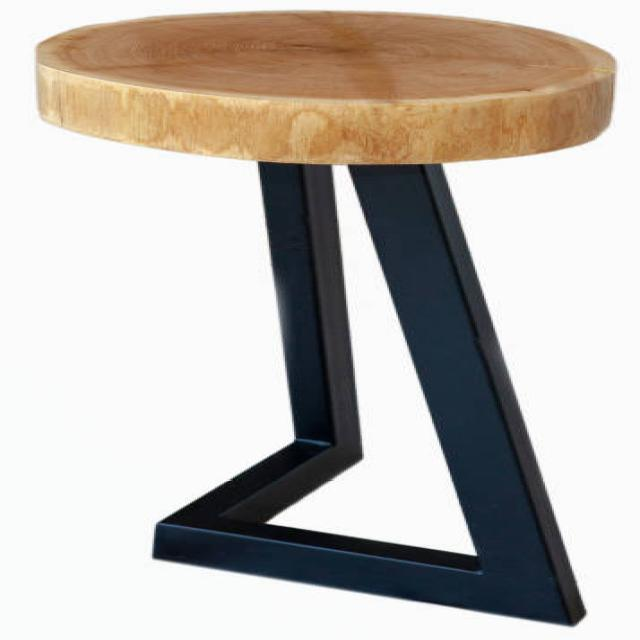table: (32, 8, 617, 626)
